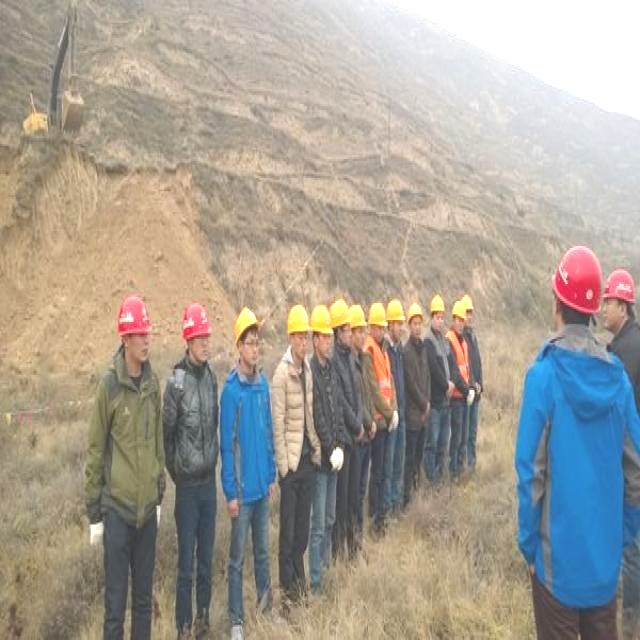Con_Casco: (235, 307, 262, 370), (288, 302, 310, 357)
